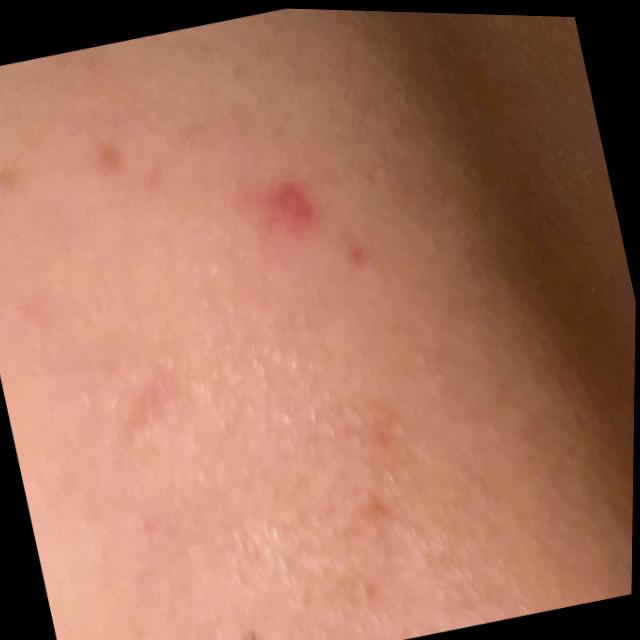papule: (220, 142, 408, 306)
